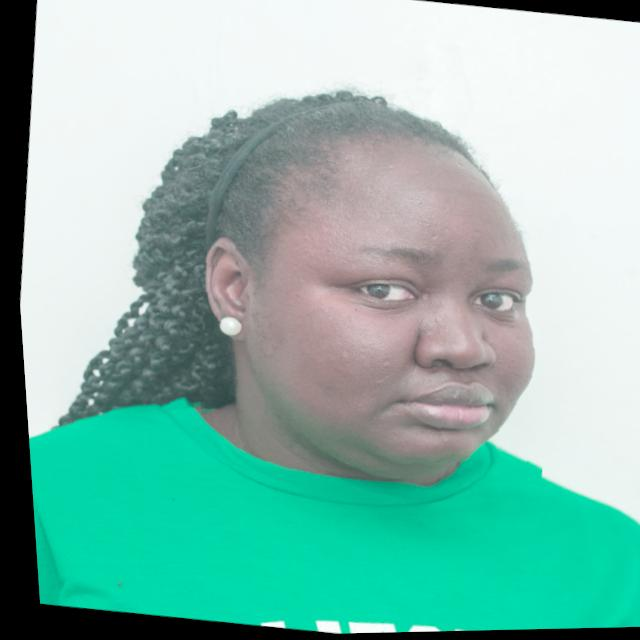sad: (163, 83, 576, 502)
